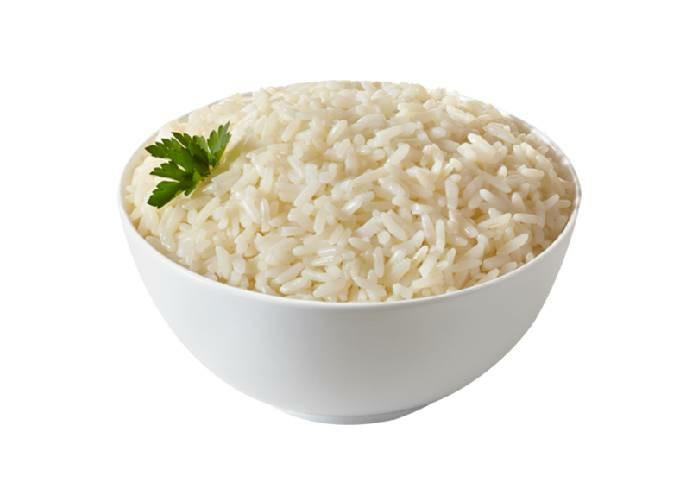WhiteRice: (123, 80, 581, 296)
